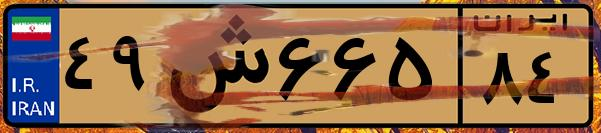4: (57, 26, 110, 100), (525, 38, 570, 115)
5: (385, 28, 445, 110)
6: (270, 28, 330, 110), (330, 28, 385, 110)
8: (475, 38, 525, 113)
9: (110, 28, 158, 98)
ش: (158, 12, 270, 120)
